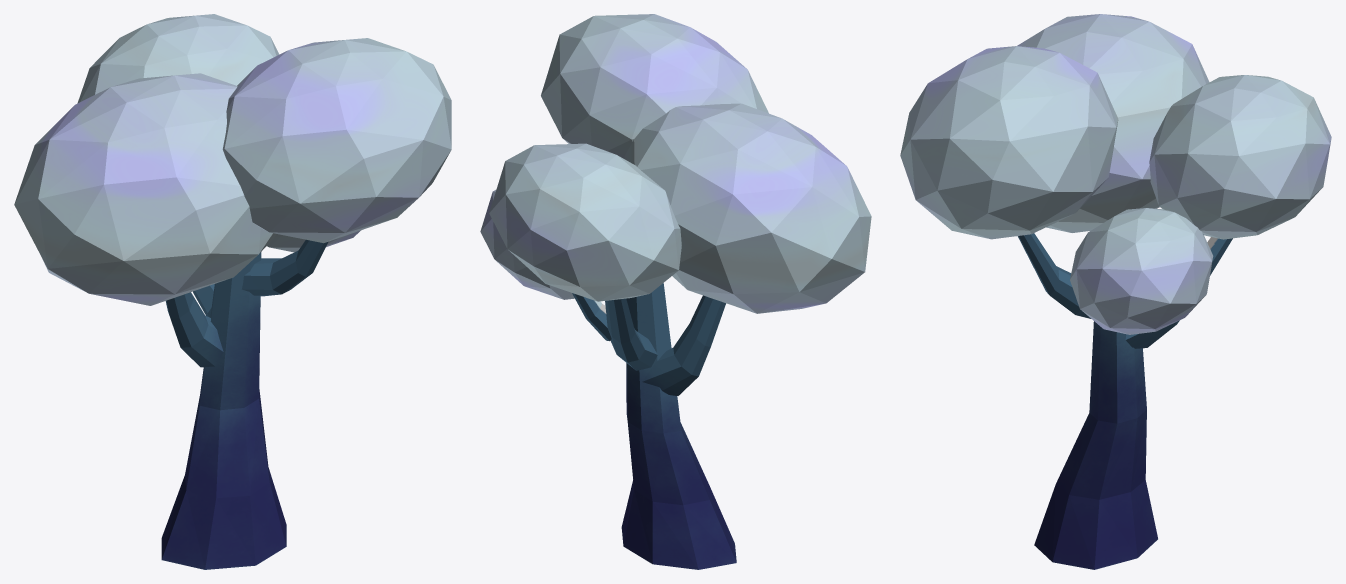
The model's file is tree.glb.
3 views of the same model, side by side, from view 1: azimuth 30°, elevation 25°; view 2: azimuth 150°, elevation 25°; view 3: azimuth 270°, elevation 25° (orthographic). The views are drawn at different scales.
Visible parts, largest first — view 1: Cube.009; view 2: Cube.009; view 3: Cube.009.
Boxes of the visible parts, x1,y1,x2,y2 form: Cube.009: (14, 14, 451, 569); Cube.009: (480, 14, 871, 569); Cube.009: (900, 14, 1331, 569).
Bounding box in the file's own units: 0.7645 × 1 × 0.7439.
Materials: 1 (1 with a texture image).
